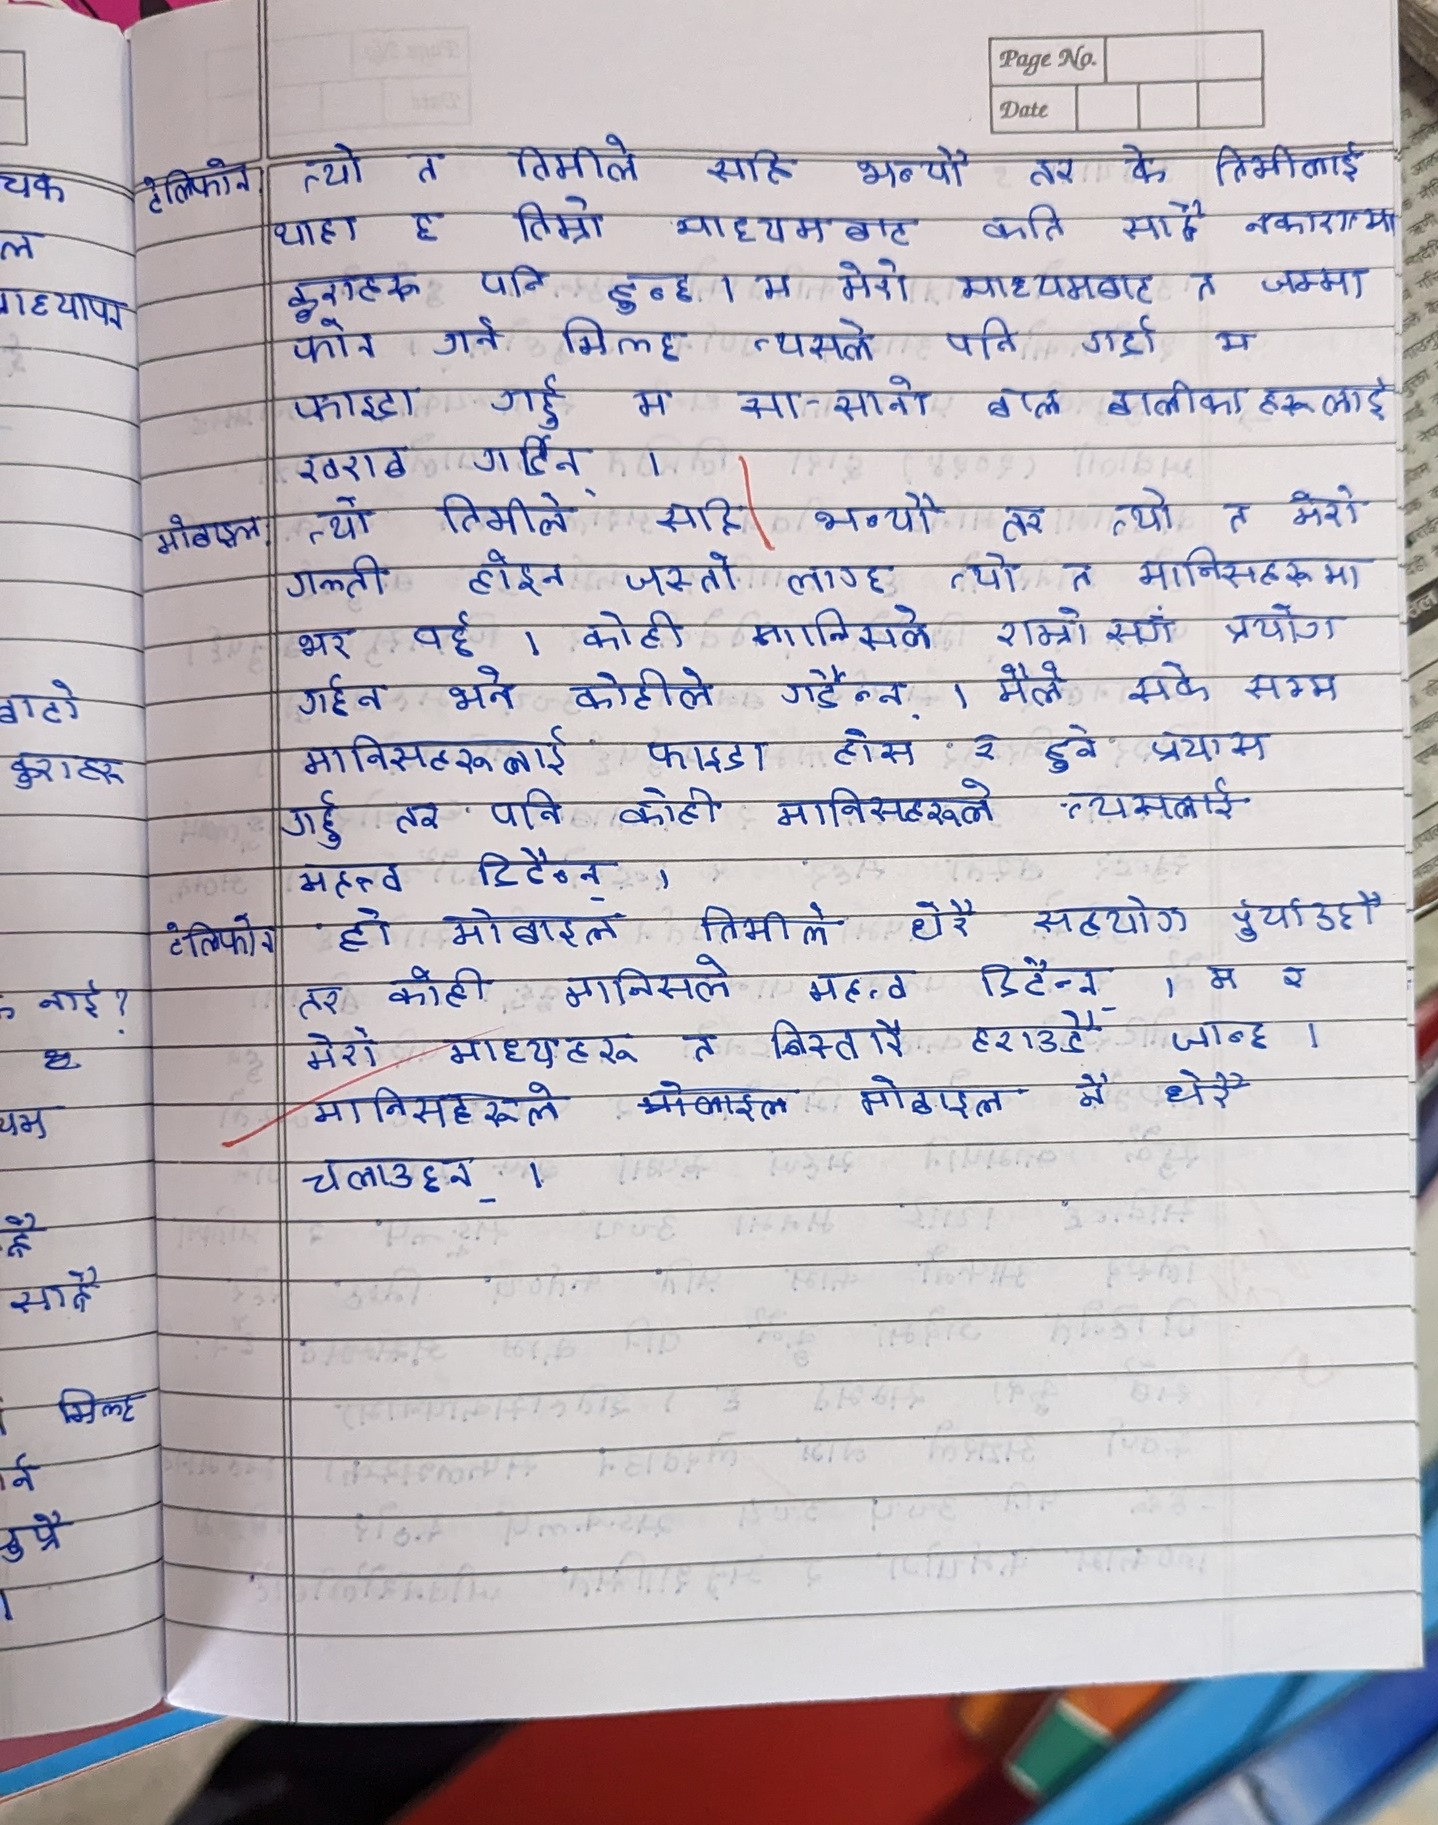text: (295, 727, 592, 781), (290, 1150, 511, 1215), (295, 1080, 570, 1130), (663, 201, 927, 253), (767, 781, 1006, 834), (1133, 545, 1377, 591), (736, 601, 939, 653), (1203, 121, 1360, 187), (555, 955, 739, 1010), (505, 120, 649, 190), (729, 373, 939, 421), (440, 1024, 649, 1071), (1220, 892, 1397, 947), (1040, 781, 1254, 825), (268, 265, 441, 320), (849, 1072, 1031, 1124), (435, 901, 632, 948), (465, 838, 621, 896), (138, 150, 261, 219), (853, 132, 983, 197), (951, 264, 1161, 304), (806, 486, 951, 541), (558, 664, 726, 711), (492, 190, 622, 250), (428, 486, 576, 539), (964, 1009, 1115, 1061), (1032, 892, 1197, 939), (763, 1012, 912, 1064), (693, 898, 840, 948), (1235, 198, 1401, 243), (736, 316, 886, 364), (452, 541, 578, 598), (769, 664, 917, 713), (692, 129, 801, 194), (1096, 378, 1248, 424), (466, 433, 607, 481), (973, 952, 1111, 1001), (1254, 376, 1391, 425), (634, 733, 780, 778), (552, 316, 693, 361), (1254, 253, 1373, 304), (278, 553, 404, 600), (573, 604, 698, 652), (150, 507, 270, 555), (283, 381, 418, 424), (618, 547, 743, 593), (287, 670, 398, 721), (1217, 603, 1351, 646), (292, 436, 412, 483), (598, 258, 700, 313), (290, 120, 367, 193), (797, 958, 920, 1003), (160, 912, 286, 955), (487, 367, 575, 428), (1109, 193, 1210, 244), (1142, 726, 1275, 764), (1158, 1064, 1254, 1117), (618, 782, 726, 830), (1240, 661, 1354, 704), (272, 787, 351, 849), (1100, 481, 1180, 542), (293, 858, 410, 899), (986, 604, 1090, 650), (1164, 1010, 1271, 1055), (384, 964, 493, 1007), (293, 495, 387, 545), (262, 210, 370, 253), (831, 252, 917, 305), (650, 492, 752, 536), (1281, 481, 1373, 530), (782, 558, 896, 597), (281, 321, 387, 363), (986, 658, 1078, 705), (936, 314, 1025, 363), (483, 784, 572, 833), (897, 895, 983, 945), (940, 548, 1031, 595), (1074, 313, 1166, 358), (299, 1022, 384, 1071), (444, 664, 524, 714), (976, 200, 1066, 244), (1123, 661, 1213, 705), (829, 727, 926, 767), (472, 255, 558, 298), (1038, 717, 1106, 770), (404, 610, 480, 658), (429, 316, 515, 357), (983, 378, 1063, 422), (1016, 138, 1078, 193), (335, 902, 401, 951), (400, 127, 455, 187), (289, 624, 367, 664), (1111, 136, 1173, 187), (1103, 606, 1180, 646), (395, 197, 455, 244), (992, 495, 1053, 541), (1207, 320, 1274, 361), (290, 975, 350, 1021), (1066, 1067, 1123, 1112), (387, 793, 449, 833), (745, 265, 809, 304), (1054, 553, 1111, 593), (671, 1022, 727, 1062), (629, 381, 681, 421), (1200, 955, 1244, 995), (1186, 264, 1228, 305), (1214, 492, 1254, 535), (1277, 963, 1317, 995), (972, 724, 1006, 761)
